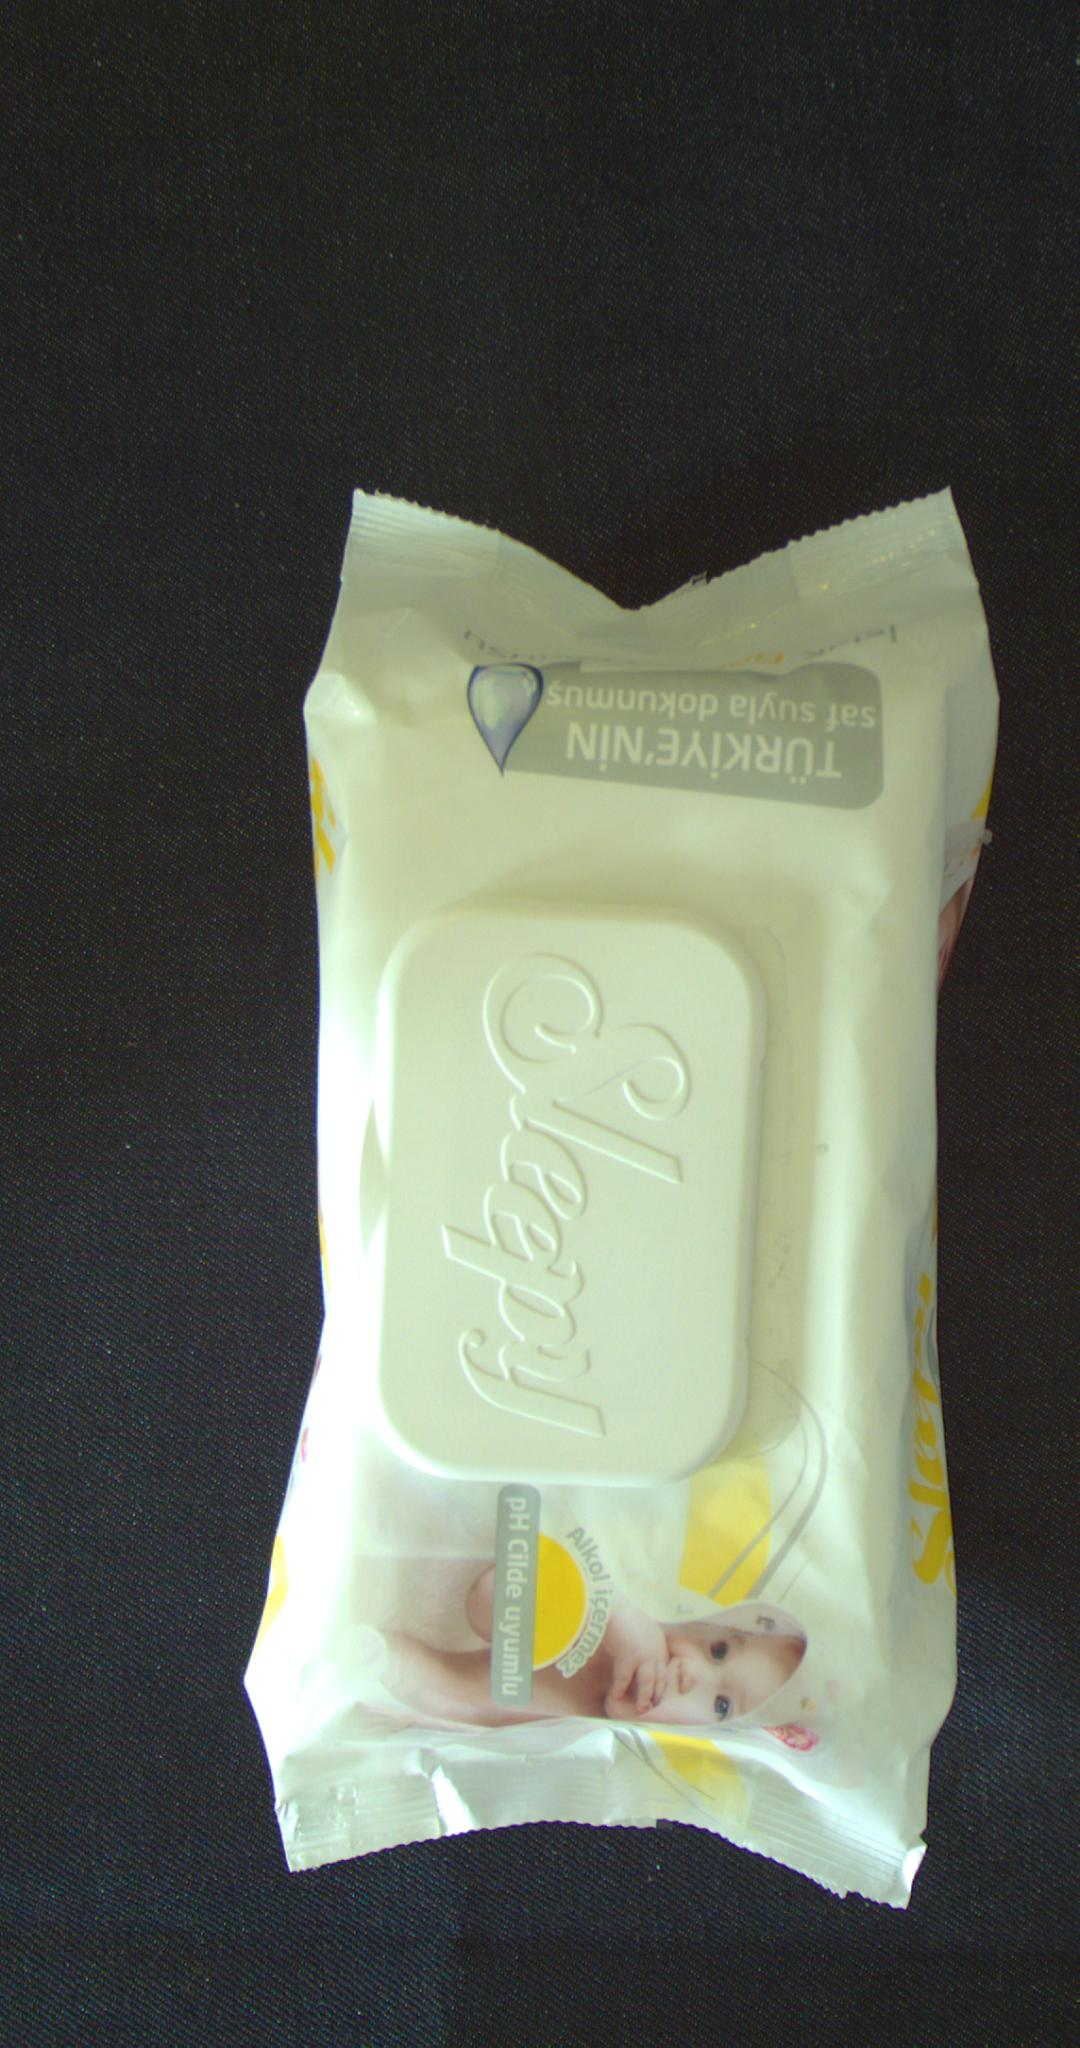kapak: (363, 905, 753, 1479)
